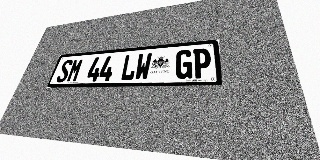4: (85, 57, 104, 82), (98, 56, 116, 81)
G: (175, 49, 193, 79)
L: (120, 54, 138, 81)
M: (66, 58, 84, 82)
P: (193, 48, 211, 79)
S: (55, 59, 74, 82)
W: (134, 53, 152, 80)
